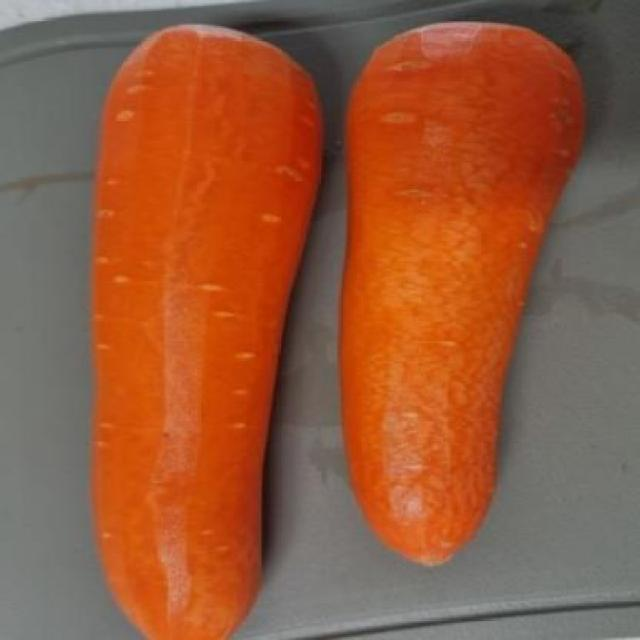carrot: (73, 6, 330, 640), (336, 11, 598, 576)
